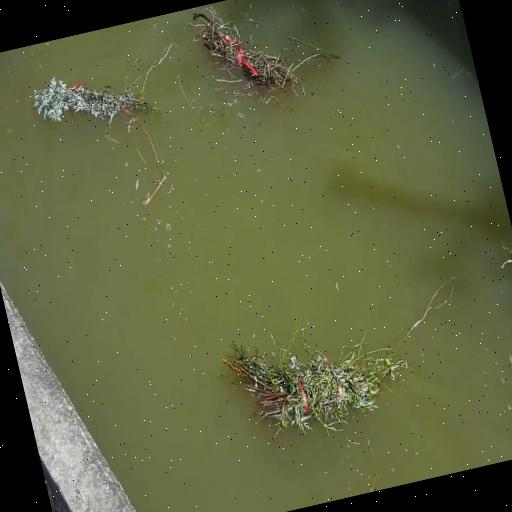twig: (220, 304, 422, 456), (189, 0, 335, 112), (26, 54, 158, 162), (490, 222, 512, 286)
